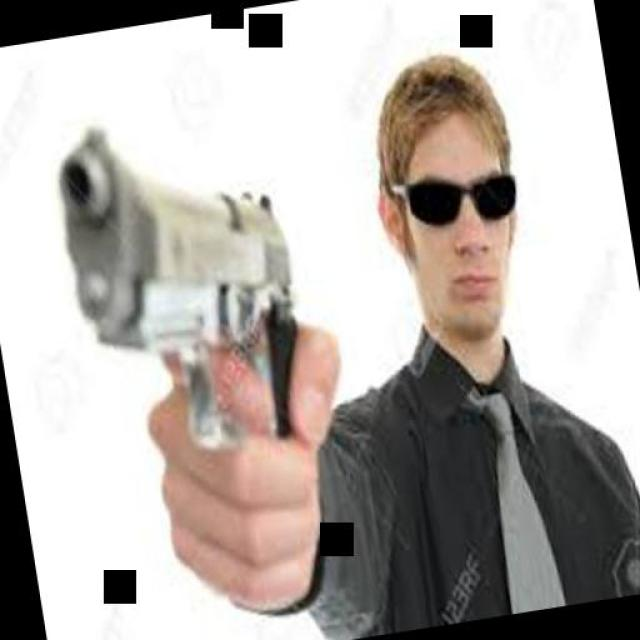gun: (35, 85, 327, 507)
